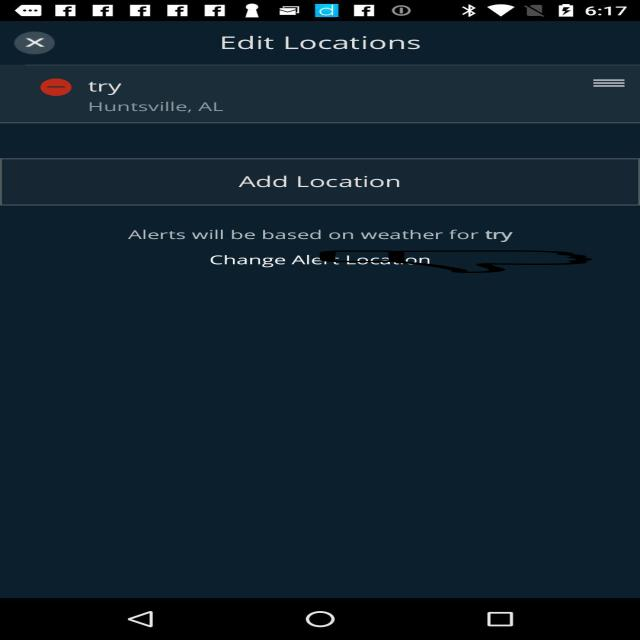obstruction: (316, 250, 596, 273)
